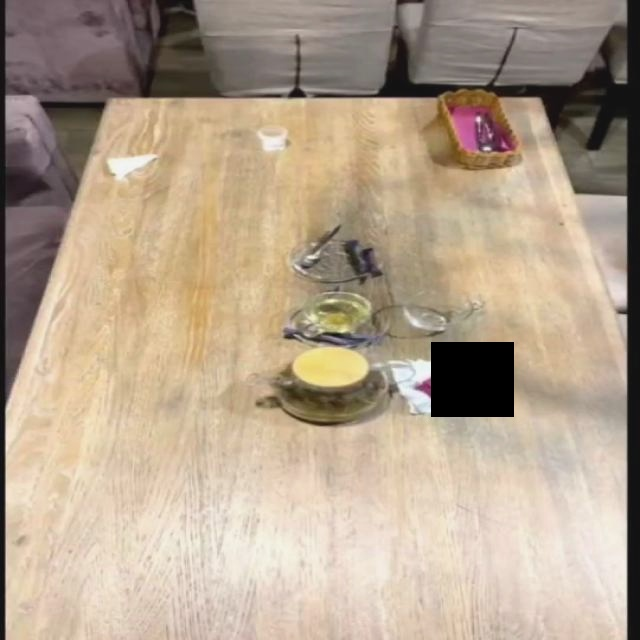tea: (269, 345, 390, 424)
